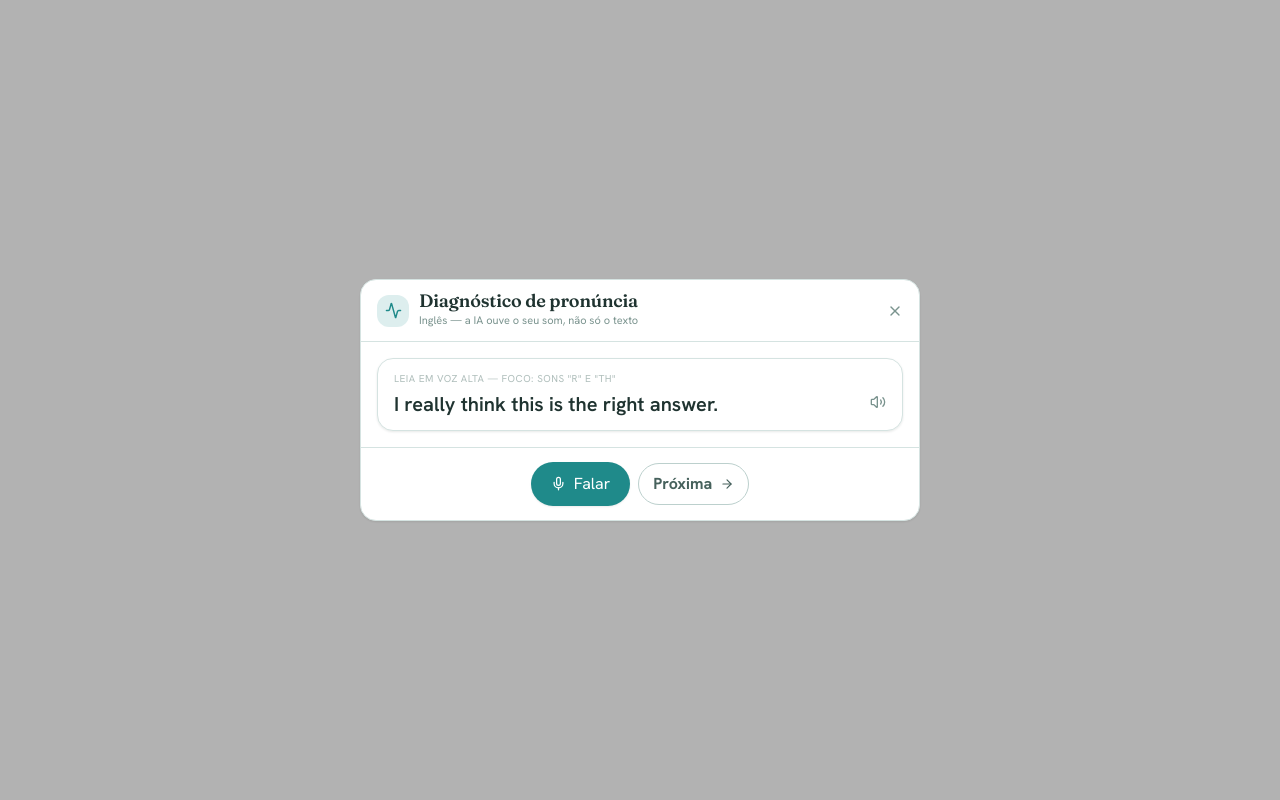
PronunciationDiagnostic › próxima frase troca o texto
The width and height of the screenshot is (1280, 800).
Check: the text "I really think this is the right answer." is shown, box [394,391,718,417]
Click the button "Próxima".
click(694, 484)  # box [638,463,749,505]
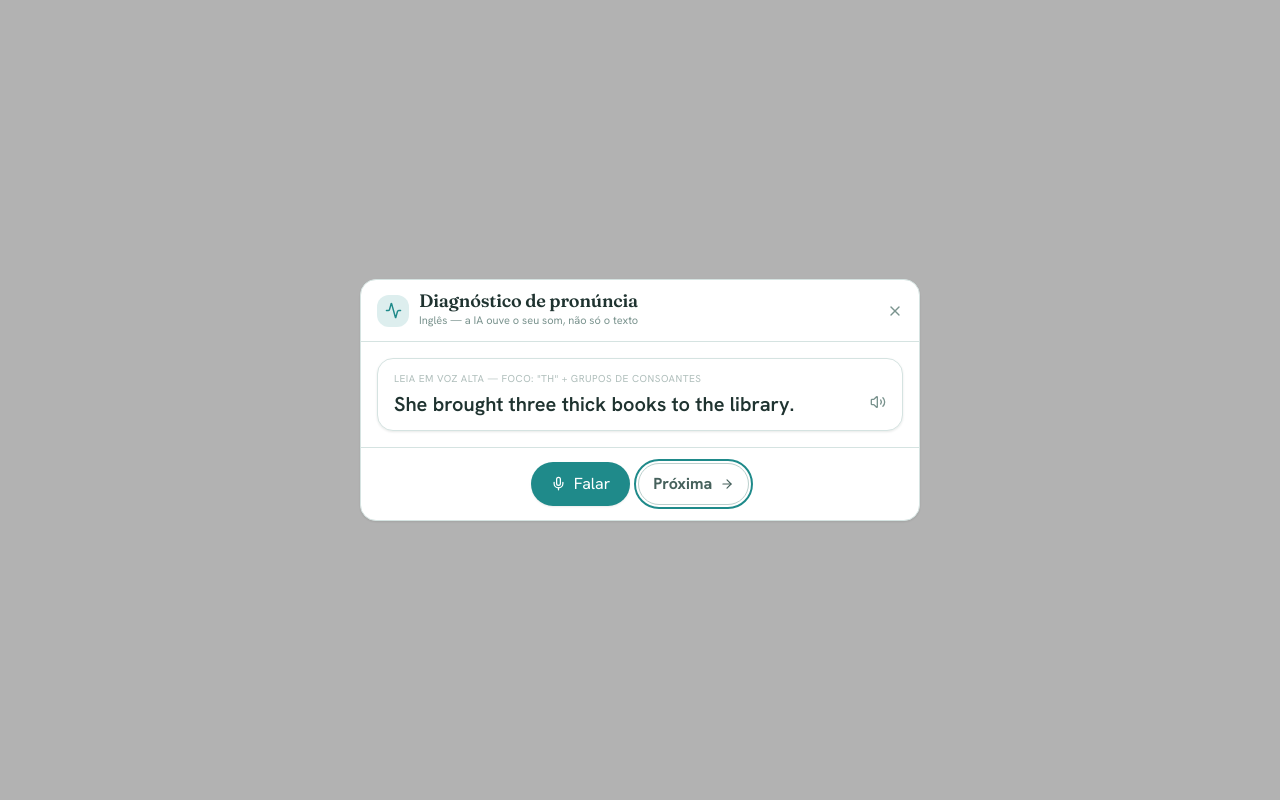
Check: the text "I really think this is the right answer." is gone
Check: the text "She brought three thick books to the library." is shown, box [394,390,862,418]
